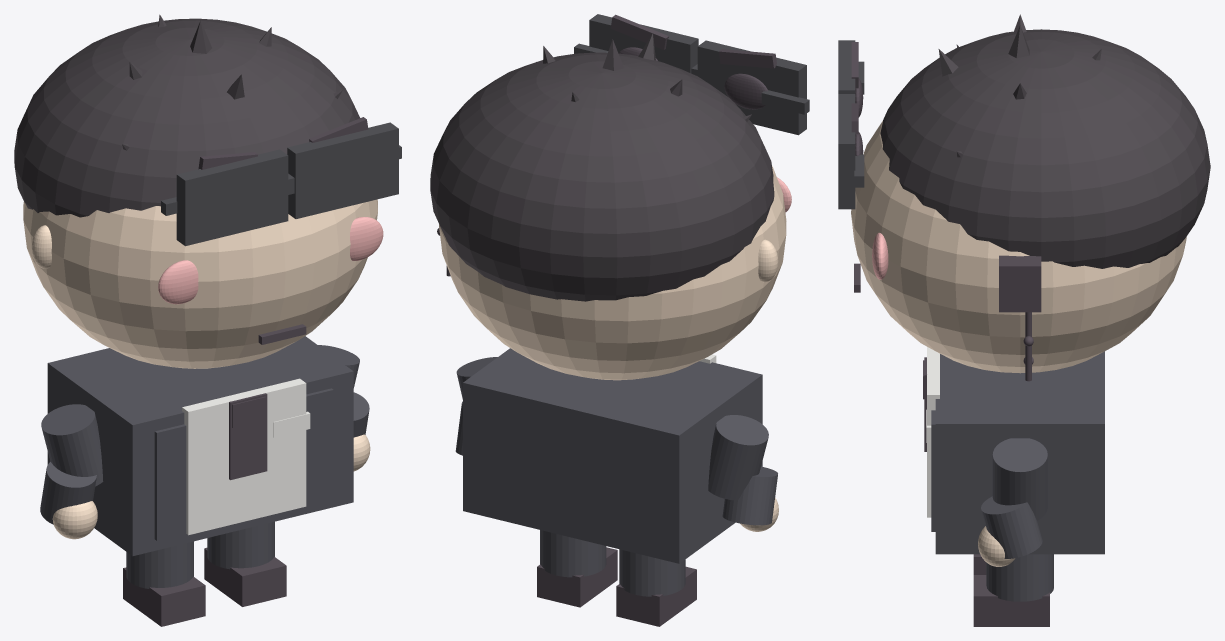
Rendered from bodyguard.glb.
The picture shows the model from 3 angles, left to right: view 1: azimuth 30°, elevation 25°; view 2: azimuth 150°, elevation 25°; view 3: azimuth 270°, elevation 25°; orthographic projection. The views are drawn at different scales.
Parts seen in each view (by area): view 1: HairCap, Head, Coat, ShirtFront, Lens_L, Lens_R, CoatFront, UpperArm_L, Shoe_L, Shoe_R, Leg_L, Leg_R (+13 smaller); view 2: HairCap, Coat, Head, Lens_L, UpperArm_L, Lens_R, Leg_L, Leg_R, Shoe_L, Shoe_R, Forearm_L, EyeSocket_L (+4 smaller); view 3: HairCap, Head, Coat, UpperArm_R, Leg_R, Shoe_R, Forearm_R, Earpiece, Lens_R, ShirtFront, Lens_L, Hand_R (+2 smaller).
Part boxes in pixels (x1,y1,x2,y2): HairCap: (14, 18, 359, 217); Head: (23, 199, 377, 368); Coat: (47, 336, 353, 556); ShirtFront: (182, 378, 306, 535); Lens_L: (176, 149, 288, 246); Lens_R: (287, 122, 398, 218); CoatFront: (154, 388, 333, 540); UpperArm_L: (41, 404, 103, 486); Shoe_L: (123, 567, 205, 626); Shoe_R: (204, 547, 286, 606); Leg_L: (126, 541, 193, 588); Leg_R: (207, 521, 274, 569); HairCap: (430, 52, 774, 301); Coat: (463, 348, 762, 563); Head: (439, 166, 786, 380); Lens_L: (697, 40, 806, 135); UpperArm_L: (708, 415, 768, 500); Lens_R: (589, 14, 698, 73); Leg_L: (619, 549, 685, 596); Leg_R: (540, 530, 606, 577); Shoe_L: (616, 566, 696, 626); Shoe_R: (537, 547, 617, 607); Forearm_L: (722, 466, 777, 525); EyeSocket_L: (724, 73, 767, 109); HairCap: (880, 29, 1210, 268); Head: (851, 121, 1186, 373); Coat: (935, 351, 1104, 554); UpperArm_R: (992, 438, 1047, 520); Leg_R: (986, 554, 1053, 601); Shoe_R: (973, 575, 1049, 626); Forearm_R: (981, 496, 1042, 558); Earpiece: (999, 255, 1041, 312); Lens_R: (838, 94, 855, 209); ShirtFront: (927, 347, 939, 517); Lens_L: (838, 40, 855, 93); Hand_R: (978, 526, 1015, 566).
Size of the model in its own units: 1.25 by 2 by 1.18.
